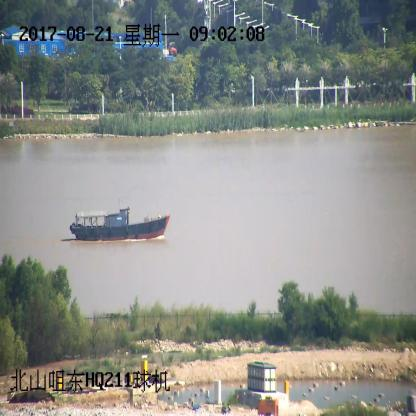Fishing Boat: (70, 207, 171, 242)
